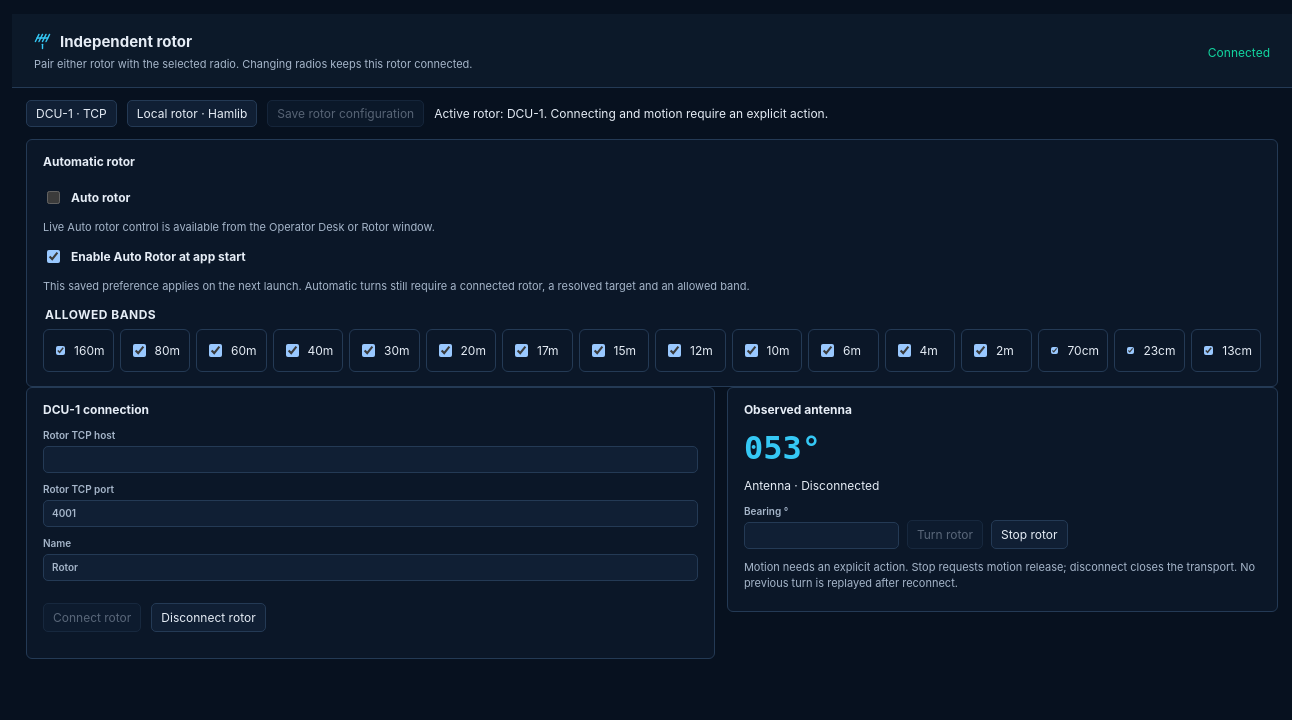
independent rotor panel › does not connect or move on mount; explicit motion carries the owner generation
Expected: the text "053°" is shown, [744, 428, 821, 466]
Type "90" into the number field named "Rotor bearing degrees" at (821, 535), box [744, 522, 899, 549]
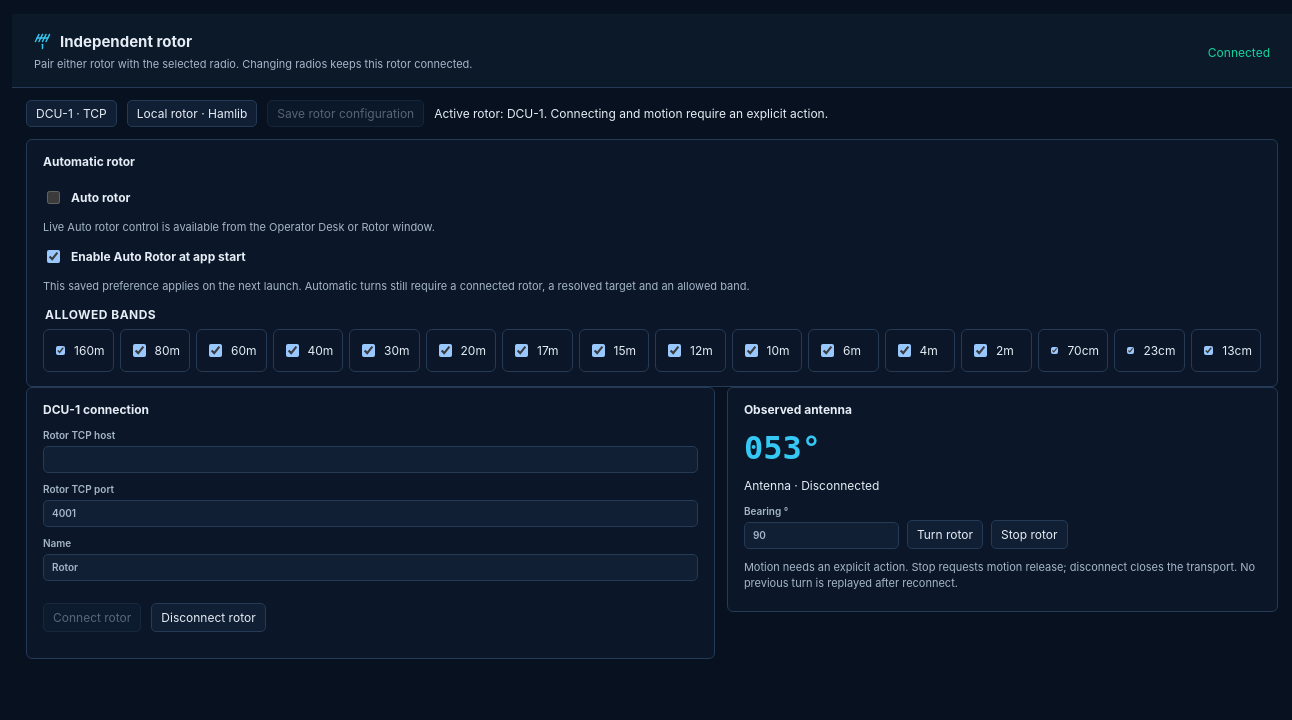
Click the button "Turn rotor" at (945, 534), box [907, 520, 983, 549]
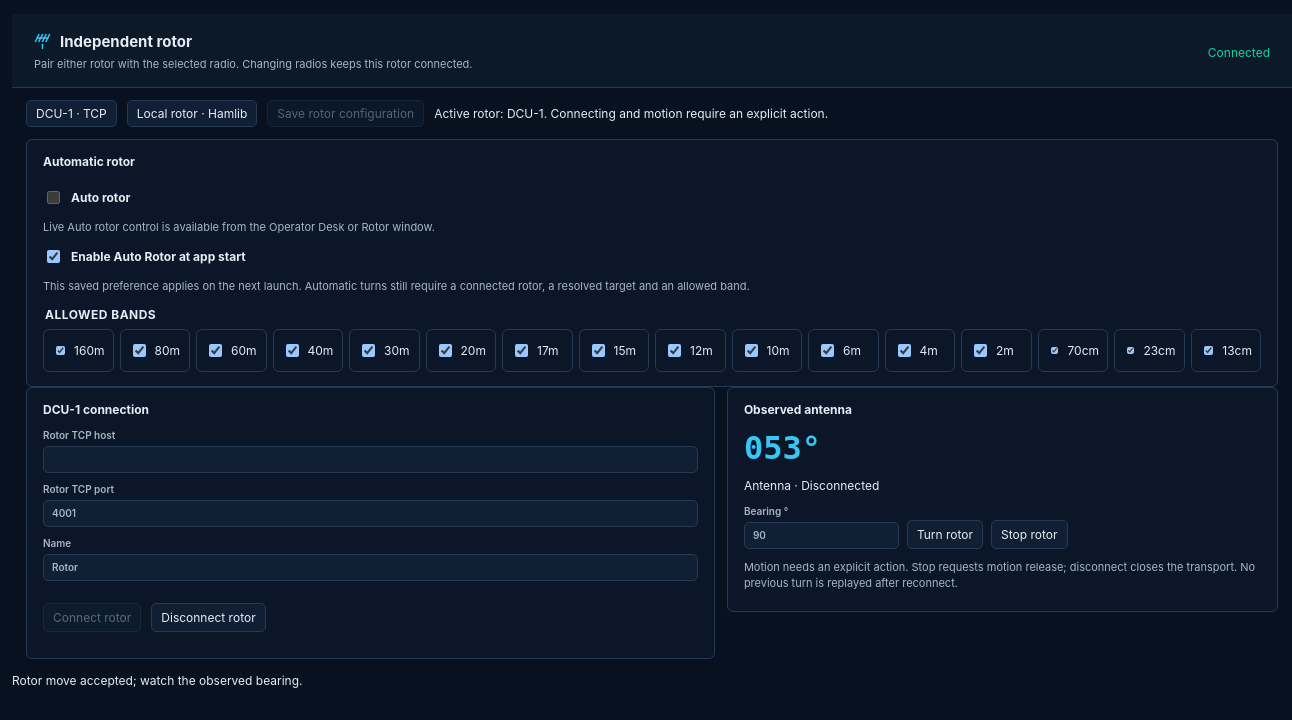
Now the text "Rotor move accepted; watch the observed bearing." is shown, box [12, 672, 302, 688]
